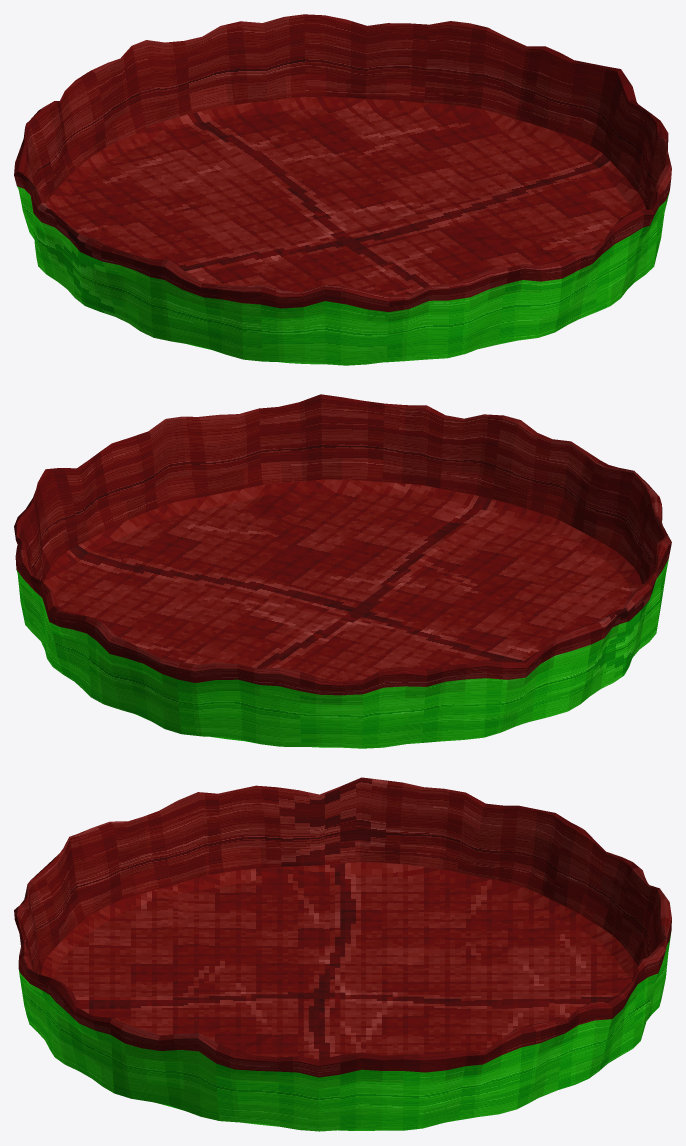
The model's file is KimjangMat.glb.
3 renders of one model, top to bottom at view 1: azimuth 30°, elevation 25°; view 2: azimuth 150°, elevation 25°; view 3: azimuth 270°, elevation 25°, orthographic.
Parts seen in each view (by area): view 1: KimjangMat; view 2: KimjangMat; view 3: KimjangMat.
Boxes of the visible parts, x1,y1,x2,y2 form: KimjangMat: (14, 14, 671, 365); KimjangMat: (14, 394, 671, 748); KimjangMat: (14, 777, 671, 1131).
Bounding box in the file's own units: 3.27 × 0.4846 × 3.24.
Materials: 3 (3 with a texture image).
